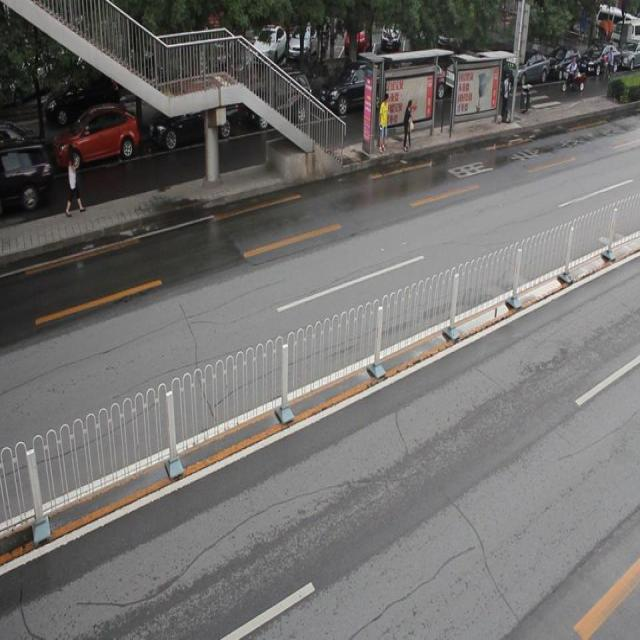car: (48, 105, 136, 172), (143, 92, 236, 145), (314, 61, 390, 120), (240, 72, 308, 132), (1, 136, 53, 214), (1, 125, 36, 182)
